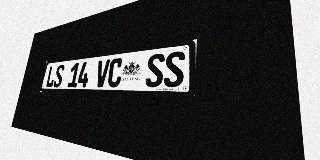1: (67, 63, 81, 87)
4: (77, 61, 91, 87)
C: (107, 58, 124, 87)
L: (45, 65, 57, 87)
S: (163, 50, 185, 87), (145, 53, 165, 87), (53, 64, 65, 87)
V: (94, 59, 110, 87)
